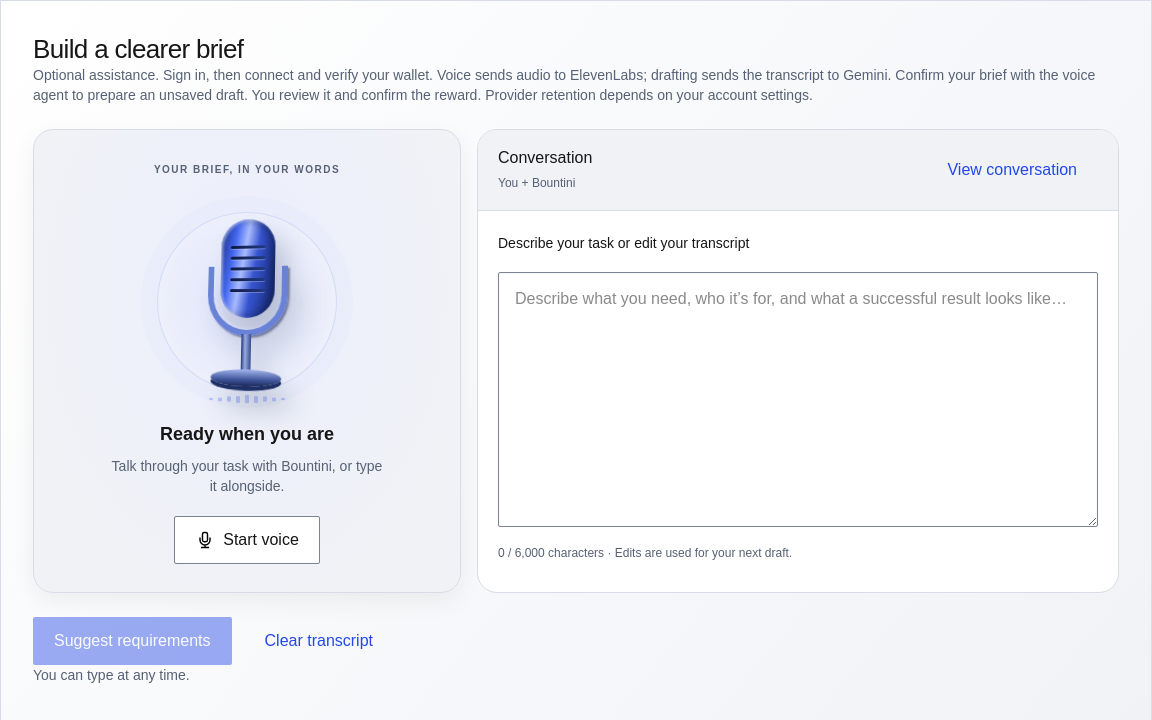
it: offers a proposal if the form changes while Gemini is pending
Step 1. Click the button "Start voice" → (247,540), box [174,516,320,564]
Wait 1 ms
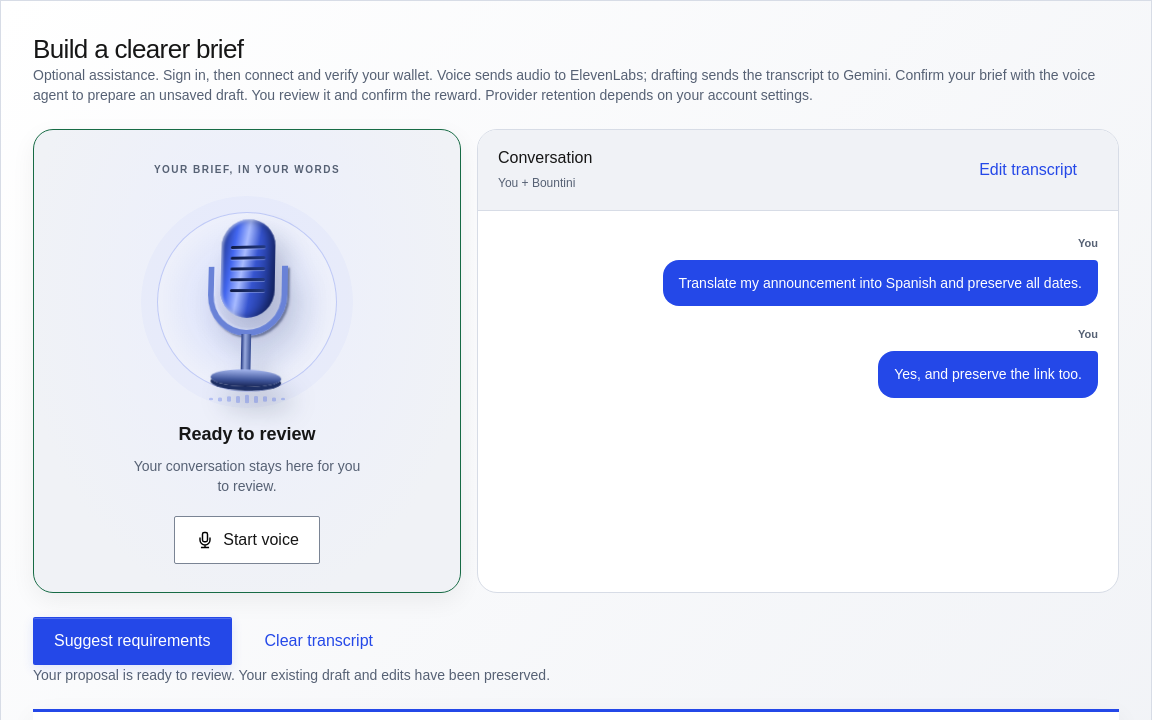
Result: the text "Your existing draft and edits have been preserved" is shown at [33,667,550,683]
